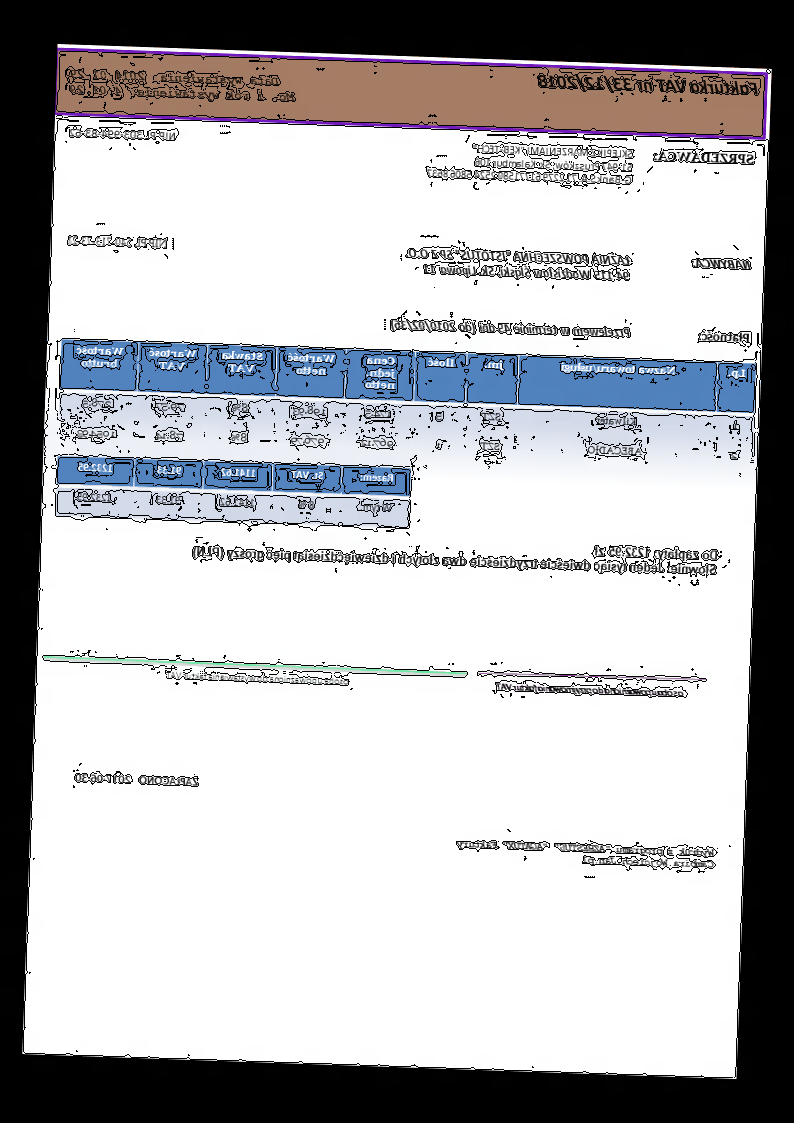Table: (57, 336, 759, 474), (55, 454, 414, 530)
TextBox: (190, 529, 721, 580), (425, 138, 636, 189), (452, 835, 717, 872), (67, 65, 300, 106), (402, 244, 634, 285), (535, 68, 762, 100), (389, 317, 633, 341), (495, 679, 687, 701), (162, 668, 353, 688), (72, 769, 201, 790), (67, 124, 179, 144), (653, 147, 758, 168), (64, 232, 172, 251), (691, 255, 754, 274), (696, 327, 754, 346)
